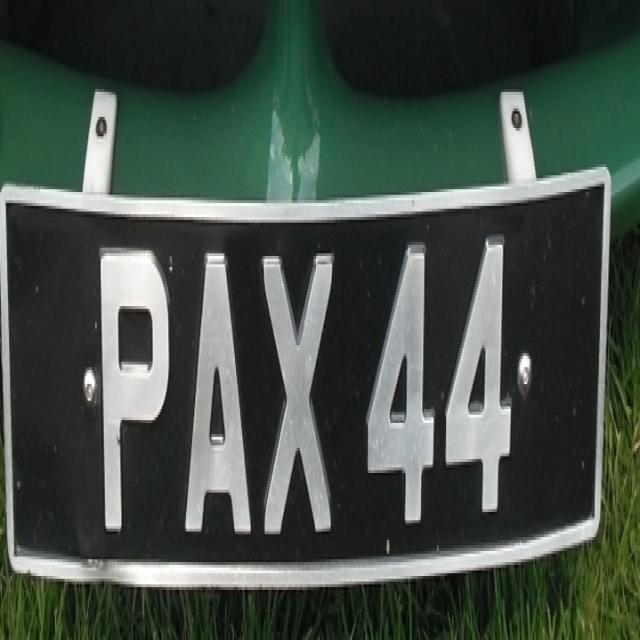licenseplate: (0, 143, 617, 622)
